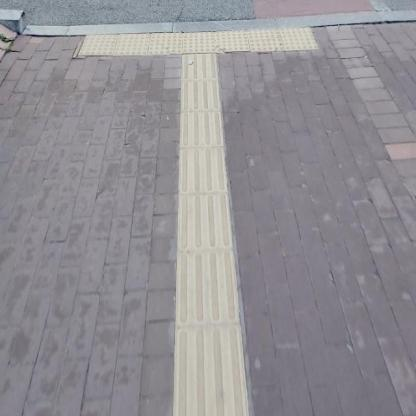podotacti: (172, 60, 248, 414), (81, 24, 321, 58)
